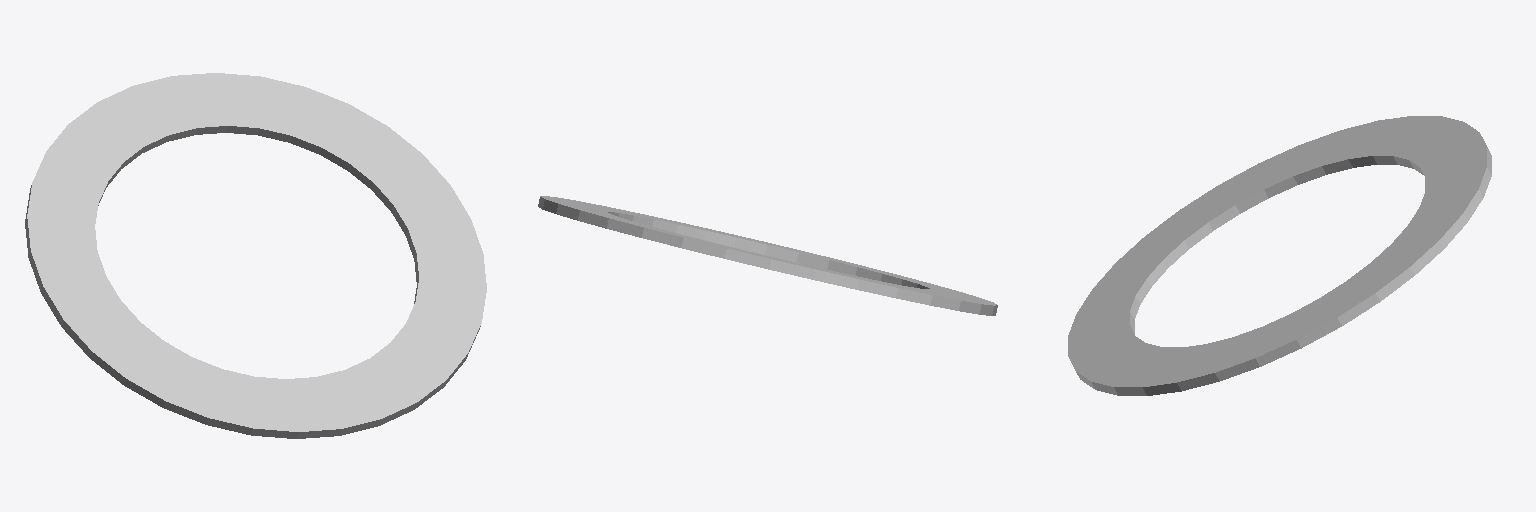
Rendered from rings1.obj.
The picture shows the model from 3 angles: view 1: azimuth 30°, elevation 25°; view 2: azimuth 150°, elevation 25°; view 3: azimuth 270°, elevation 25°; orthographic projection.
Parts seen in each view (by area): view 1: Circle_Circle.002; view 2: Circle_Circle.002; view 3: Circle_Circle.002.
Boxes of the visible parts, x1,y1,x2,y2 form: Circle_Circle.002: [25, 73, 486, 438]; Circle_Circle.002: [538, 196, 997, 315]; Circle_Circle.002: [1068, 116, 1491, 395].
Bounding box in the file's own units: 1.83 × 0.8557 × 1.66.